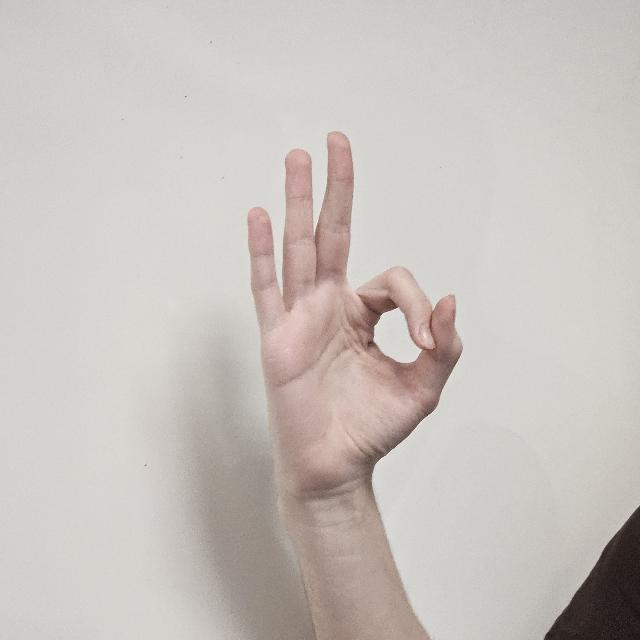Bolinha: (243, 126, 461, 496)
